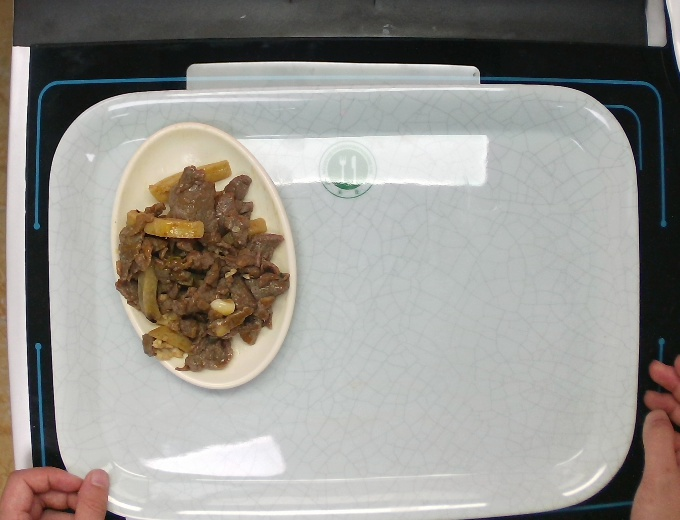JYsf-Tuo_Yuan_Wan: (108, 123, 301, 398)
